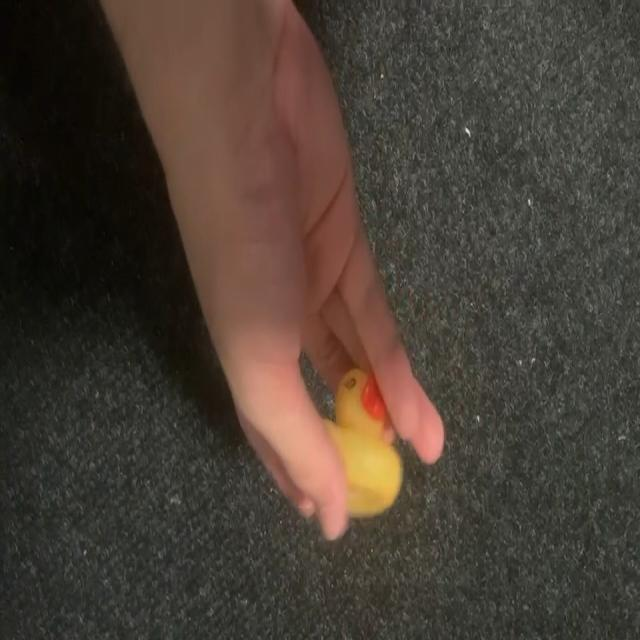rubber-duck: (324, 367, 400, 515)
